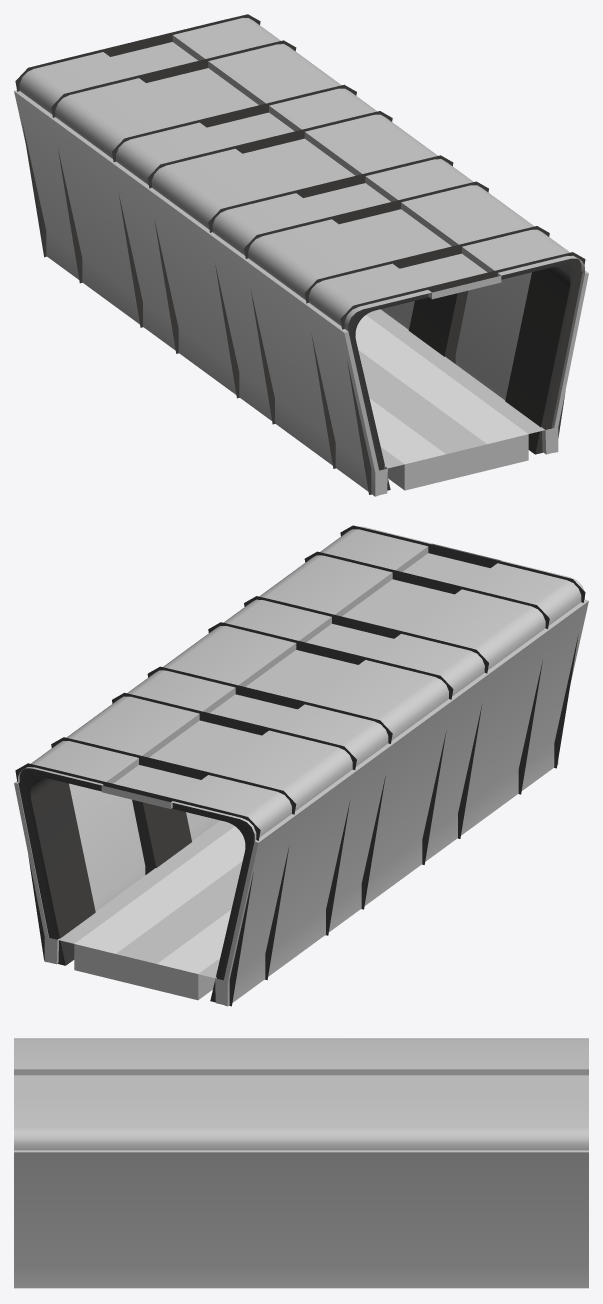
Rendered from HangarCorridor.fbx.
3 views of the same model, one above another, from view 1: azimuth 30°, elevation 25°; view 2: azimuth 150°, elevation 25°; view 3: azimuth 270°, elevation 25° (orthographic). The views are drawn at different scales.
Parts seen in each view (by area): view 1: Walls, Supports; view 2: Walls, Supports; view 3: Walls.
Boxes of the visible parts, x1,y1,x2,y2 form: Walls: (14,18,588,496); Supports: (15,14,585,494); Walls: (14,526,588,1006); Supports: (15,525,585,1006); Walls: (14,1038,588,1288).
Size of what is drawn, in the model's own units: 793 by 600 by 1851.
